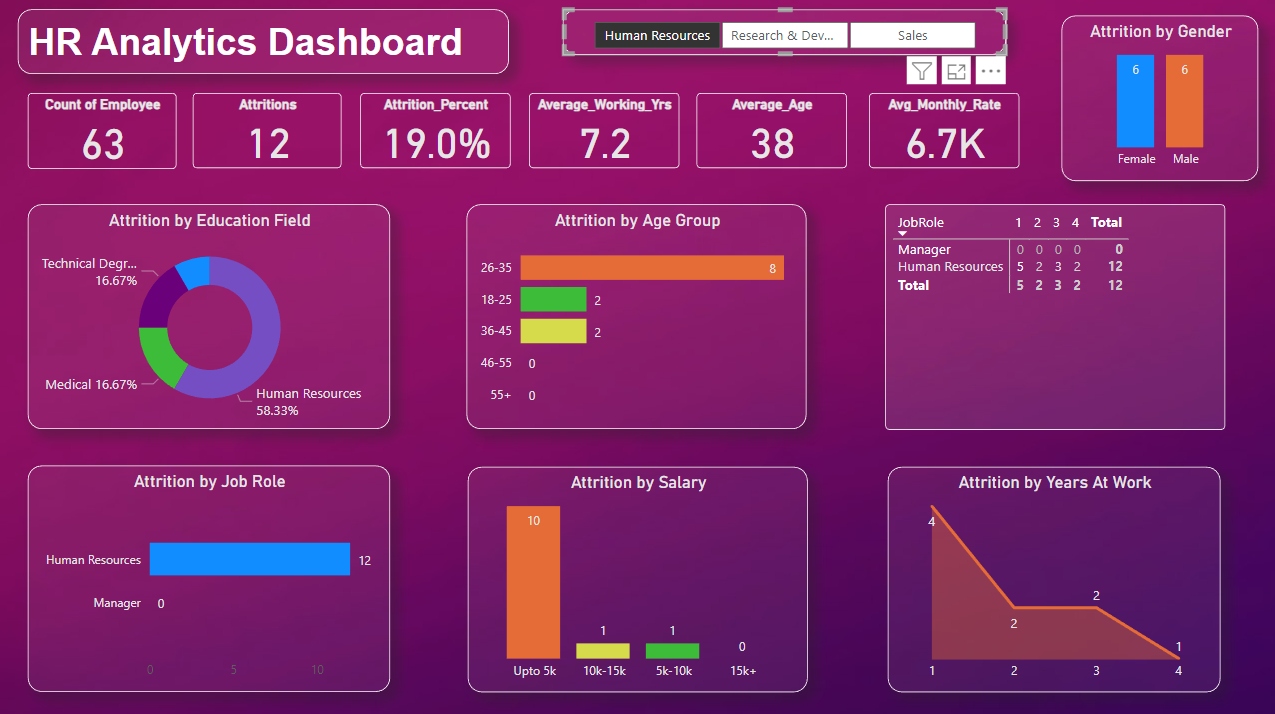

The dashboard page shown, as its layout file describes it:
{"tool":"powerbi","page":{"name":"Page 1","canvas":[1280,720],"ordinal":0},"visuals":[{"type":"card","title":"Average_Working_Yrs","fields":{"Values":["Avg(HR_Analytics_data.YearsAtCompany)"]},"box":[530,95.3,150,75],"z":0},{"type":"card","title":"Count of Employee","fields":{"Values":["CountNonNull(HR_Analytics_data.EmpID)"]},"box":[28.7,95.3,148.8,76.2],"z":1000},{"type":"card","title":"Attrition_Percent","fields":{"Values":["HR_Analytics_data.AttritionRate"]},"box":[361.2,95.3,150,75],"z":2000},{"type":"card","title":"Attritions","fields":{"Values":["Sum(HR_Analytics_data.Attrition_count)"]},"box":[193.7,95.3,148.8,75],"z":3000},{"type":"card","title":"Average_Age","fields":{"Values":["Avg(HR_Analytics_data.Age)"]},"box":[697.5,95.3,150,75],"z":4000},{"type":"card","title":"Avg_Monthly_Rate","fields":{"Values":["Avg(HR_Analytics_data.MonthlyIncome)"]},"box":[870,95.3,150,75],"z":5000},{"type":"donutChart","title":"Attrition by Education Field","fields":{"Category":["HR_Analytics_data.EducationField"],"Y":["Sum(HR_Analytics_data.Attrition_count)"]},"box":[35.7,205.7,355.7,225.7],"z":6000},{"type":"clusteredBarChart","title":"Attrition by Age Group ","fields":{"Category":["HR_Analytics_data.AgeGroup"],"Y":["Sum(HR_Analytics_data.Attrition_count)"]},"box":[471.4,205.7,337.1,225.7],"z":7000},{"type":"pivotTable","fields":{"Rows":["HR_Analytics_data.JobRole"],"Columns":["HR_Analytics_data.JobSatisfaction"],"Values":["Sum(HR_Analytics_data.Attrition_count)"]},"box":[885.7,205.7,340,225.7],"z":8000},{"type":"columnChart","title":"Attrition by Gender","fields":{"Y":["Sum(HR_Analytics_data.Attrition_count)"],"Category":["HR_Analytics_data.Gender"]},"box":[1062.9,17.1,197.1,165.7],"z":9000},{"type":"columnChart","title":"Attrition by Salary ","fields":{"Y":["Sum(HR_Analytics_data.Attrition_count)"],"Category":["HR_Analytics_data.SalarySlab"]},"box":[468.6,468.6,340,225.7],"z":10000},{"type":"clusteredBarChart","title":"Attrition by Job Role","fields":{"Category":["HR_Analytics_data.JobRole"],"Y":["Sum(HR_Analytics_data.Attrition_count)"]},"box":[18.6,468.6,372.9,225.7],"z":11000},{"type":"areaChart","title":"Attrition by Years At Work ","fields":{"Category":["HR_Analytics_data.YearsAtCompany"],"Y":["Sum(HR_Analytics_data.Attrition_count)"]},"box":[888.6,468.6,332.9,225.7],"z":12000},{"type":"slicer","fields":{"Values":["HR_Analytics_data.Department"]},"box":[564.3,11.4,442.9,45.7],"z":13000},{"type":"textbox","box":[18.6,11.4,442.9,64.3],"z":14000}]}

Visuals, with their boxes in screenshot pixels (x1, y1, x2, y2), scaled from the page's 1280x720 canvas onto the 1275x714 screenshot:
"Average_Working_Yrs" card: l=528, t=95, r=677, b=169
"Count of Employee" card: l=29, t=95, r=177, b=170
"Attrition_Percent" card: l=360, t=95, r=509, b=169
"Attritions" card: l=193, t=95, r=341, b=169
"Average_Age" card: l=695, t=95, r=844, b=169
"Avg_Monthly_Rate" card: l=867, t=95, r=1016, b=169
"Attrition by Education Field" donutChart: l=36, t=204, r=390, b=428
"Attrition by Age Group " clusteredBarChart: l=470, t=204, r=805, b=428
pivotTable - HR_Analytics_data.JobRole x HR_Analytics_data.JobSatisfaction: l=882, t=204, r=1221, b=428
"Attrition by Gender" columnChart: l=1059, t=17, r=1255, b=181
"Attrition by Salary " columnChart: l=467, t=465, r=805, b=689
"Attrition by Job Role" clusteredBarChart: l=19, t=465, r=390, b=689
"Attrition by Years At Work " areaChart: l=885, t=465, r=1217, b=689
slicer - HR_Analytics_data.Department: l=562, t=11, r=1003, b=57
textbox: l=19, t=11, r=460, b=75
